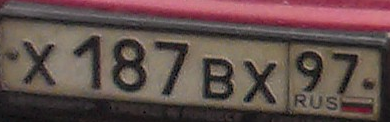character: (153, 33, 192, 97), (18, 34, 63, 89), (112, 36, 148, 93), (242, 56, 282, 104), (73, 35, 105, 91), (201, 57, 237, 102), (296, 48, 325, 91), (332, 48, 359, 93)
